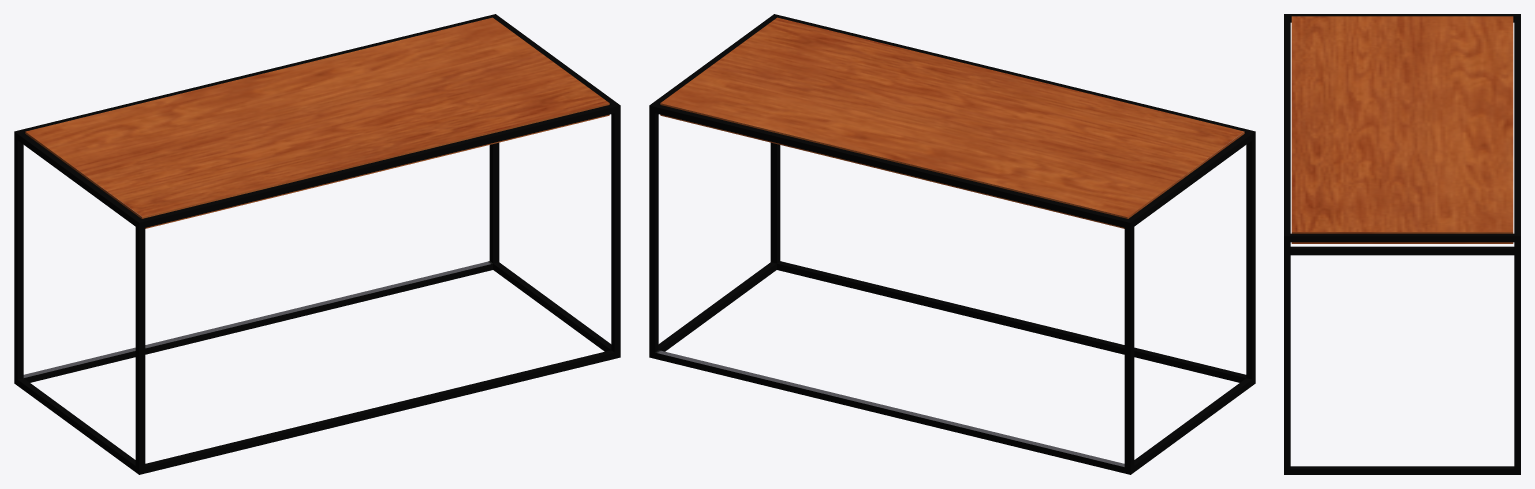
Rendered from Shelf_03_a_Art.fbx.
3 renders of one model, left to right at view 1: azimuth 30°, elevation 25°; view 2: azimuth 150°, elevation 25°; view 3: azimuth 270°, elevation 25°, orthographic. The views are drawn at different scales.
Parts seen in each view (by area): view 1: Shelf_03_a; view 2: Shelf_03_a; view 3: Shelf_03_a.
Part boxes in pixels (box(x1,y1,x2,y2)): Shelf_03_a: box(14, 14, 620, 474); Shelf_03_a: box(649, 14, 1255, 474); Shelf_03_a: box(1284, 14, 1520, 474).
Size of the model in its own units: 200 by 100 by 90.
